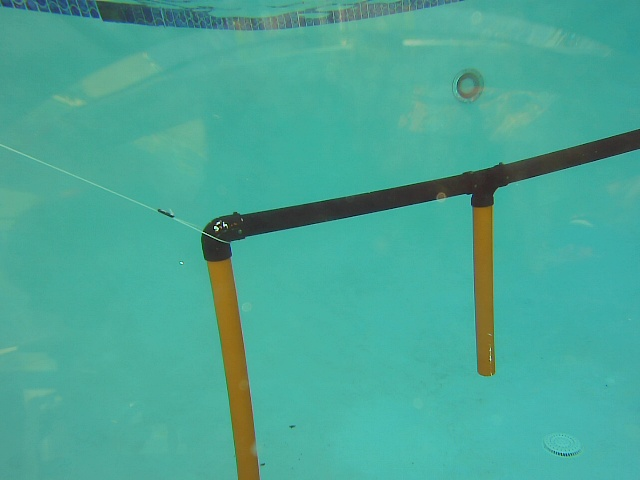Gate: (203, 254, 262, 480), (471, 200, 497, 379)
